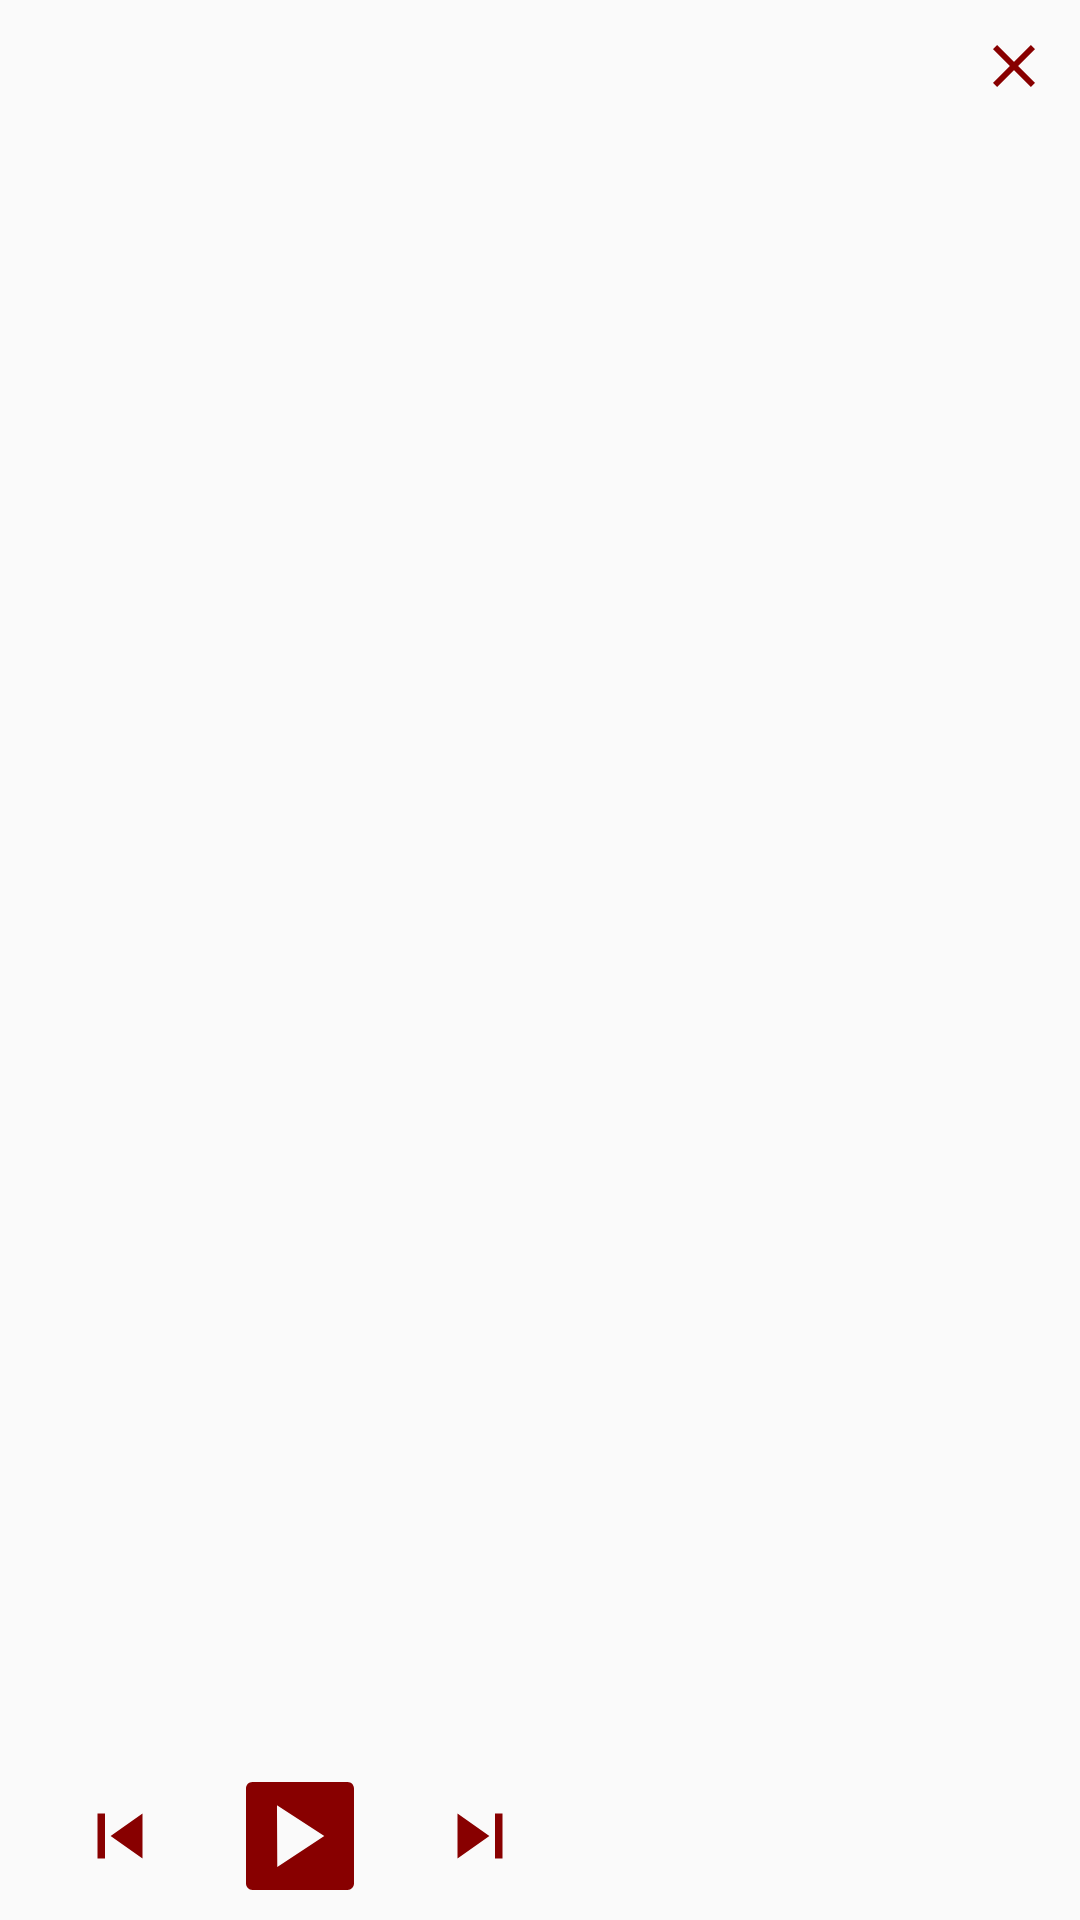

Screen size 1080×1920. Icon name, then its center in pixels as (x,y):
close: (1014,66)
next: (480,1836)
play: (300,1836)
previous: (120,1836)
